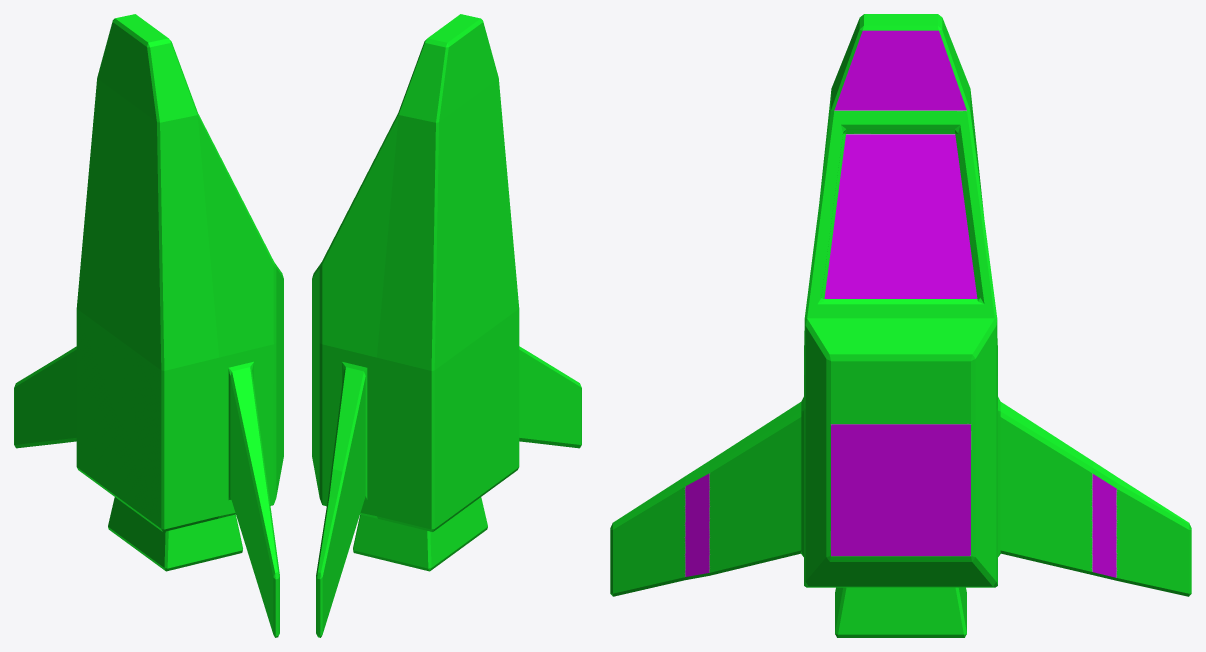
The model's file is GreenShip43.fbx.
The picture shows the model from 3 angles, left to right: view 1: azimuth 30°, elevation 25°; view 2: azimuth 150°, elevation 25°; view 3: azimuth 270°, elevation 25°; orthographic projection. The views are drawn at different scales.
Parts seen in each view (by area): view 1: Cube.006; view 2: Cube.006; view 3: Cube.006.
Part boxes in pixels (x1,y1,x2,y2): Cube.006: (14, 14, 283, 637); Cube.006: (312, 14, 581, 637); Cube.006: (610, 14, 1191, 637).
Size of the model in its own units: 235 by 882 by 802.
Materials: 1 (1 with a texture image).
